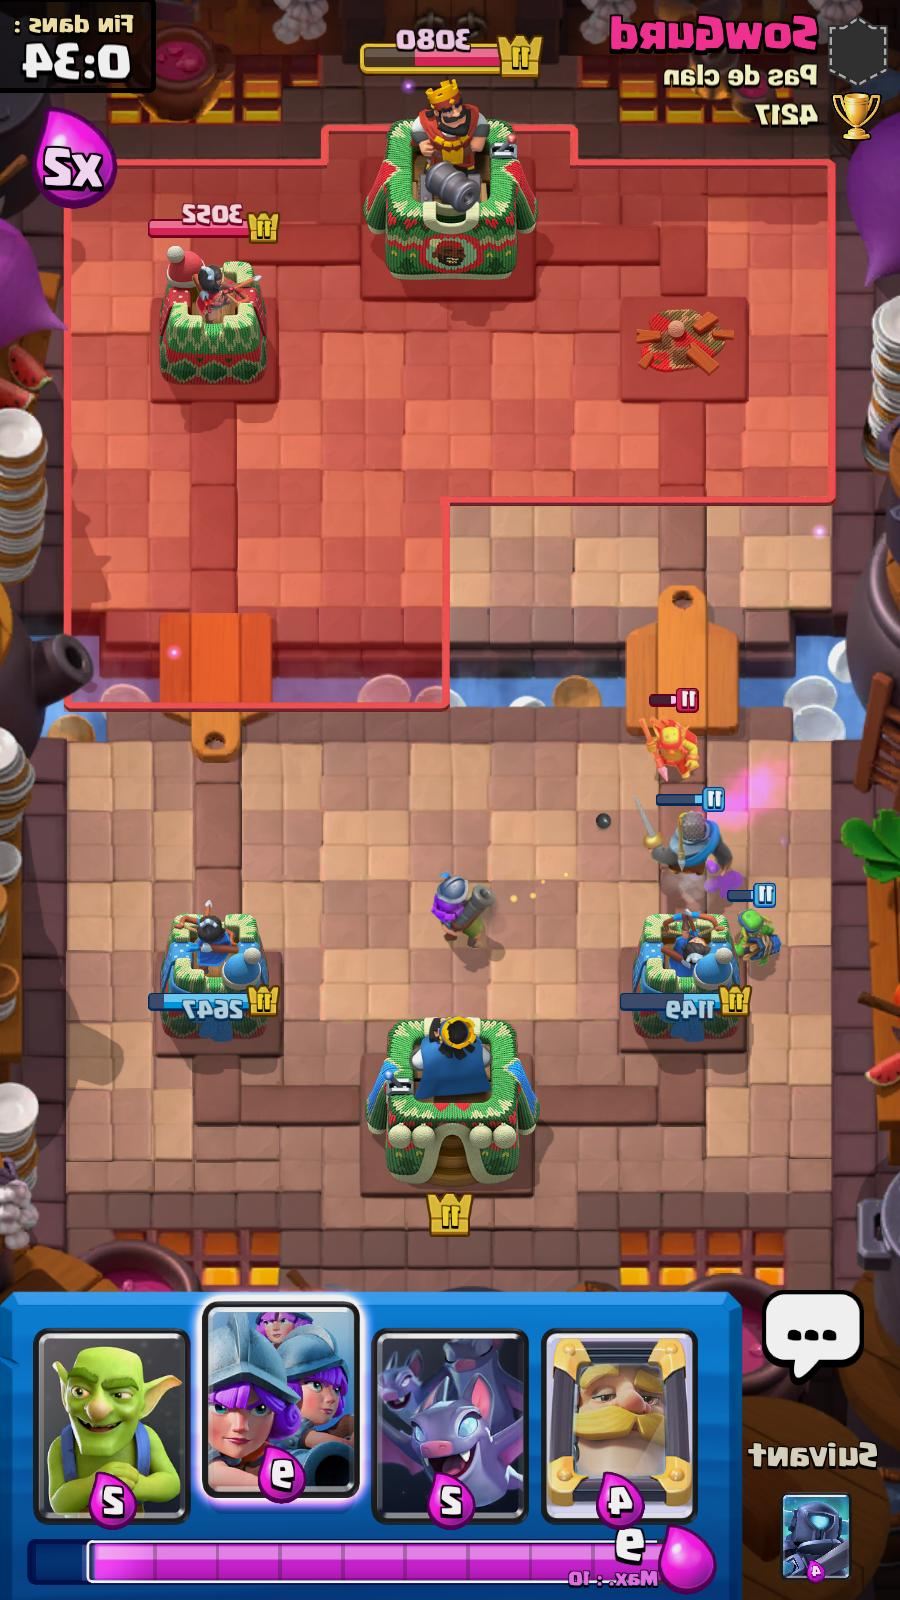chevalier: (632, 787, 736, 886)
gobelin_lances: (643, 682, 701, 786), (731, 881, 785, 958)
mousquetaire: (431, 875, 492, 949)
